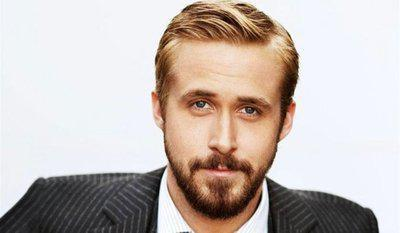Sober: (167, 48, 277, 197)
